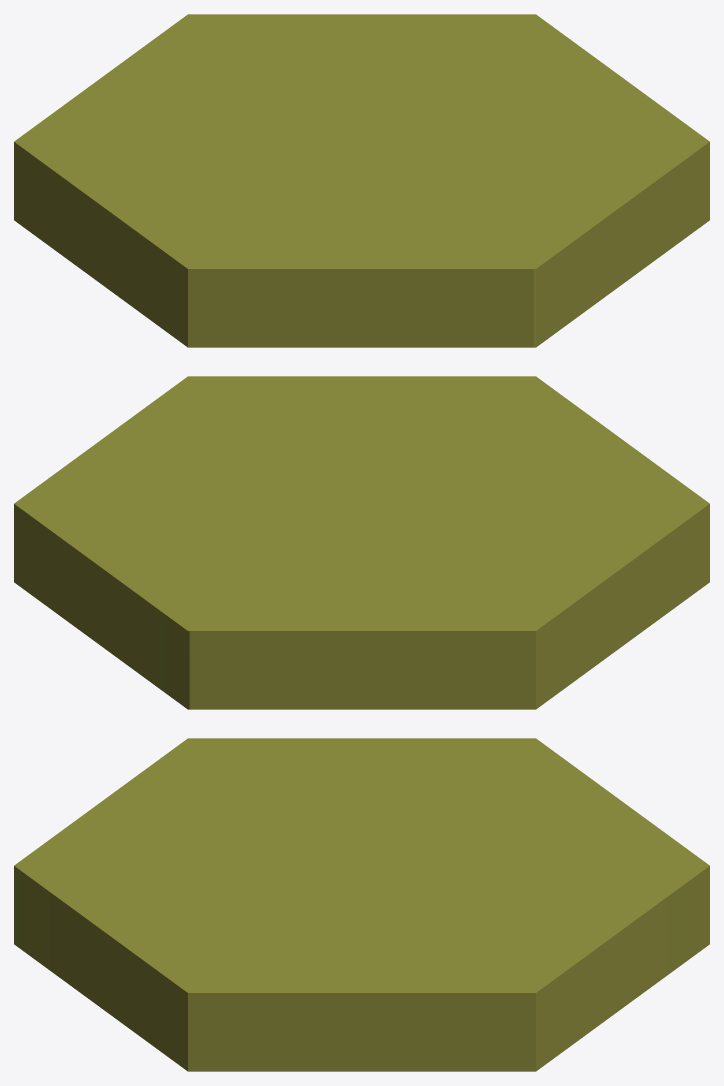
Rendered from FieldsTile.fbx.
3 views of the same model, one above another, from view 1: azimuth 30°, elevation 25°; view 2: azimuth 150°, elevation 25°; view 3: azimuth 270°, elevation 25° (orthographic).
Visible parts, largest first — view 1: ForestTileMesh; view 2: ForestTileMesh; view 3: ForestTileMesh.
Part boxes in pixels (box(x1,y1,x2,y2)): ForestTileMesh: box(14, 14, 709, 347); ForestTileMesh: box(14, 376, 709, 709); ForestTileMesh: box(14, 738, 709, 1071).
Bounding box in the file's own units: 0.866 × 0.1246 × 1.
